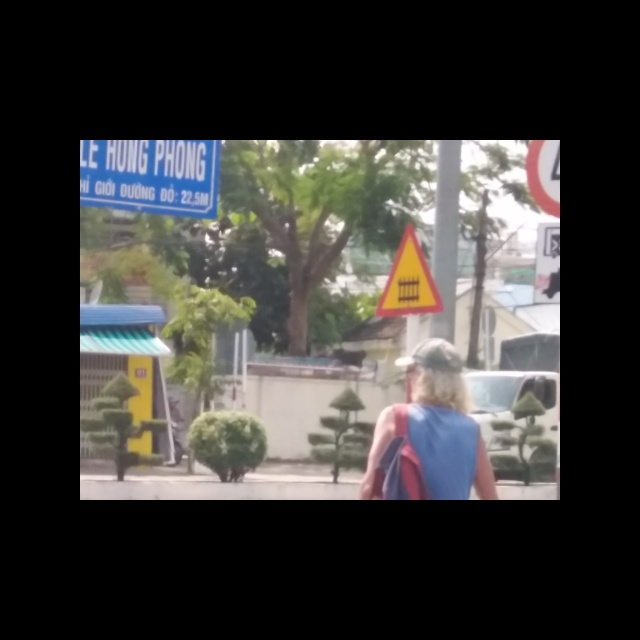Giao nhau với đường sắt có rào chắn: (372, 226, 443, 320)
